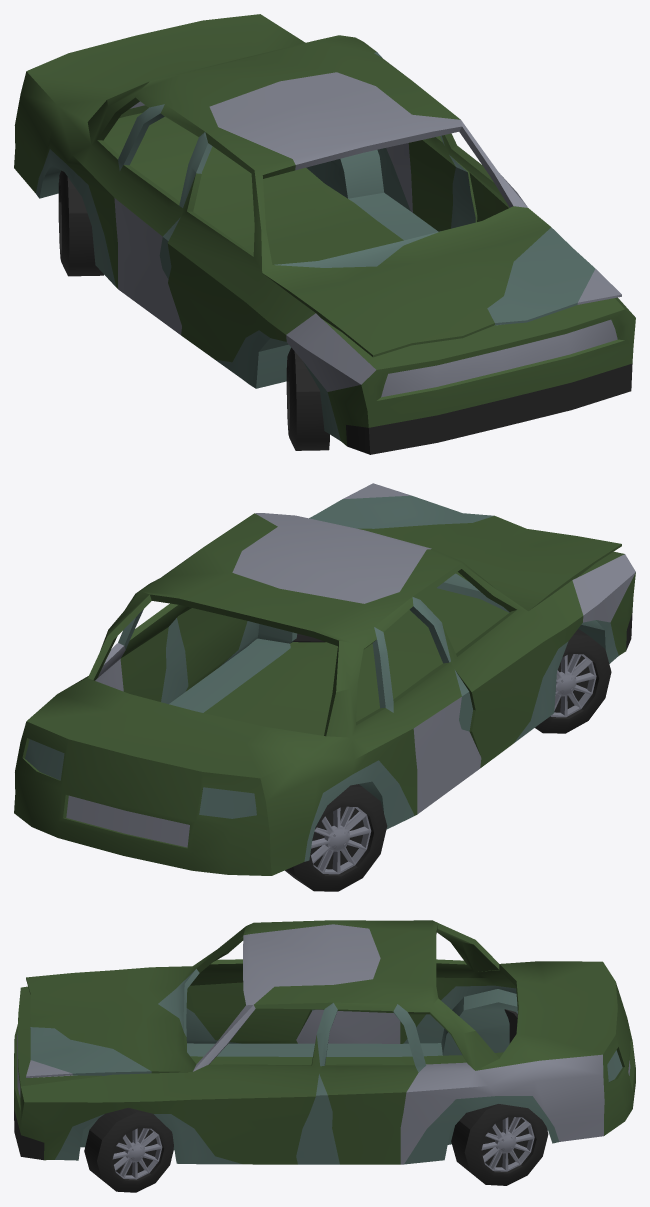
Rendered from Broken Car 3.glb.
3 renders of one model, top to bottom at view 1: azimuth 30°, elevation 25°; view 2: azimuth 150°, elevation 25°; view 3: azimuth 270°, elevation 25°, orthographic. The views are drawn at different scales.
Parts seen in each view (by area): view 1: Debris_BrokenCar; view 2: Debris_BrokenCar; view 3: Debris_BrokenCar.
Part boxes in pixels (x1,y1,x2,y2): Debris_BrokenCar: (14,14,635,454); Debris_BrokenCar: (14,483,635,891); Debris_BrokenCar: (14,920,635,1192).
Size of the model in its own units: 2.64 by 1.76 by 5.49.
